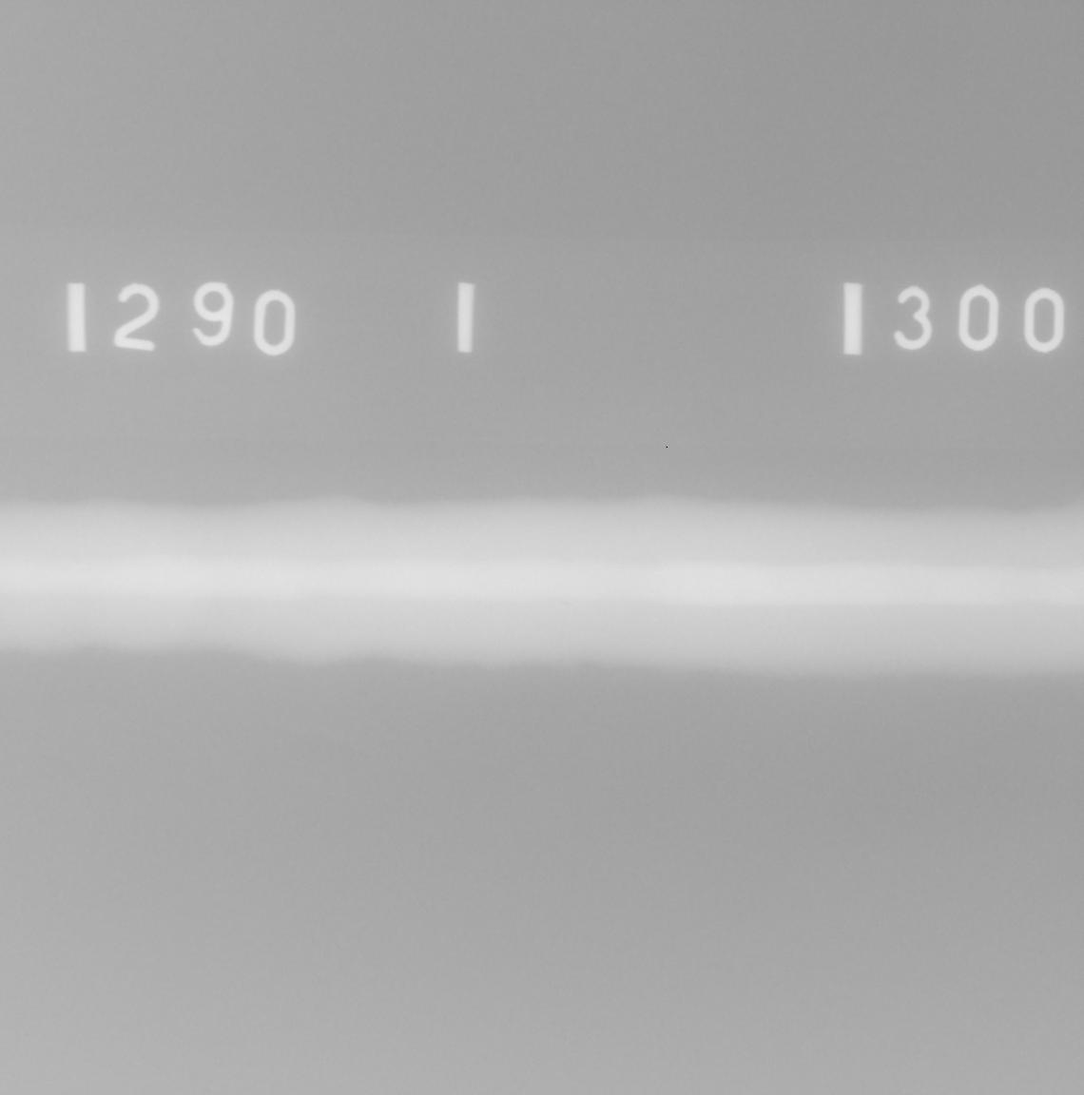Pore/Porosity: (563, 602, 567, 605)
